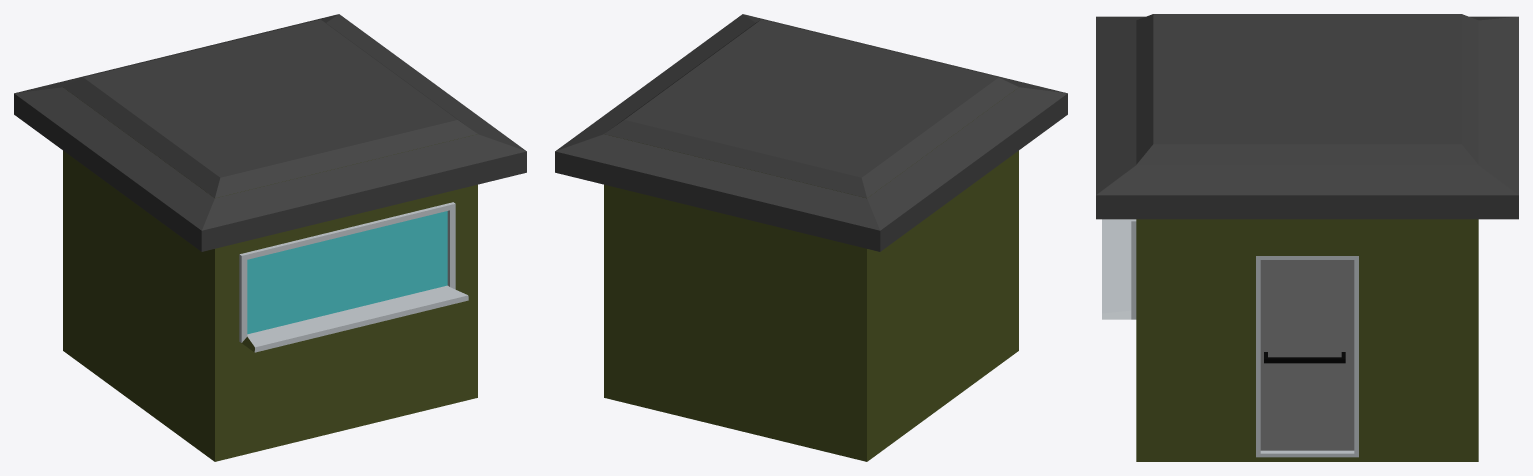
Rendered from MilitaryBuilding.fbx.
3 renders of one model, left to right at view 1: azimuth 30°, elevation 25°; view 2: azimuth 150°, elevation 25°; view 3: azimuth 270°, elevation 25°, orthographic. The views are drawn at different scales.
Visible parts, largest first — view 1: Cube; view 2: Cube; view 3: Cube.
Part boxes in pixels (<box>): Cube: <box>14,14,526,461</box>; Cube: <box>555,14,1067,461</box>; Cube: <box>1096,14,1518,461</box>.
Bounding box in the file's own units: 865 × 701 × 865.
